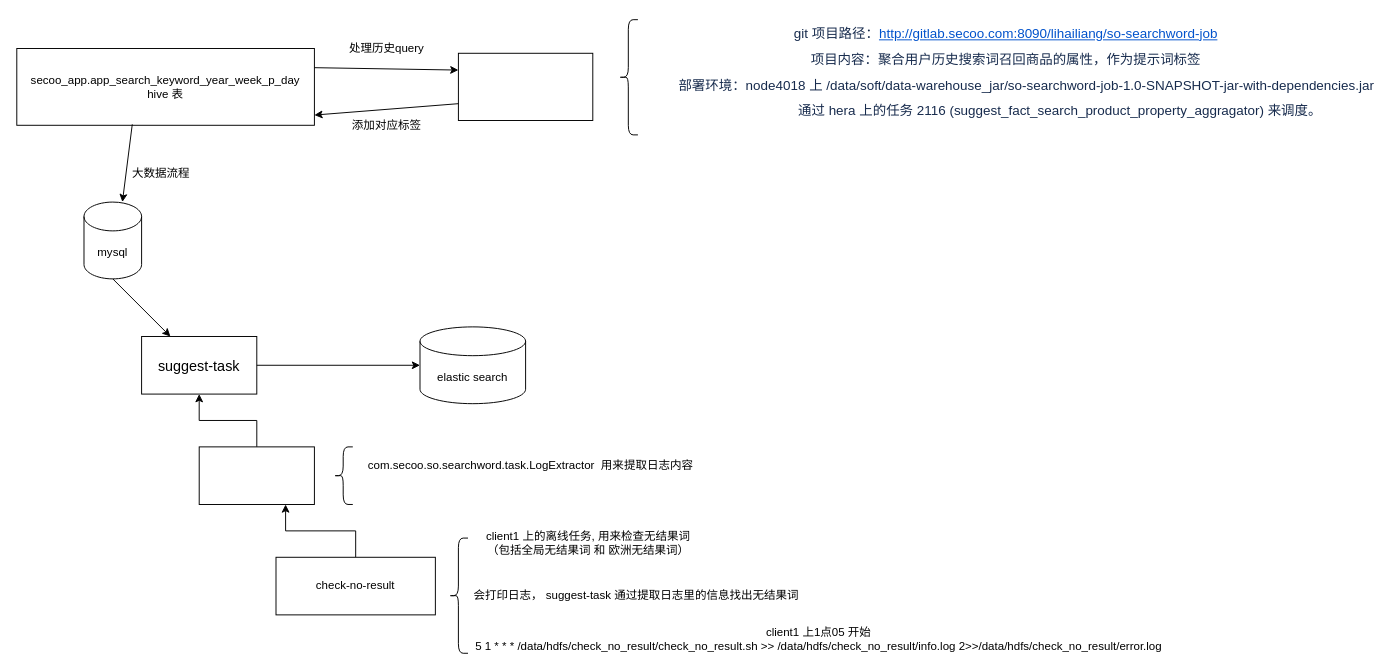
This 1397x670 diagram has some shape labels left out. Each missing label, with the centre of its shape:
"query 词相关商品的属性聚合" goes at (525,86).
"so-searh-word" goes at (256,475).
